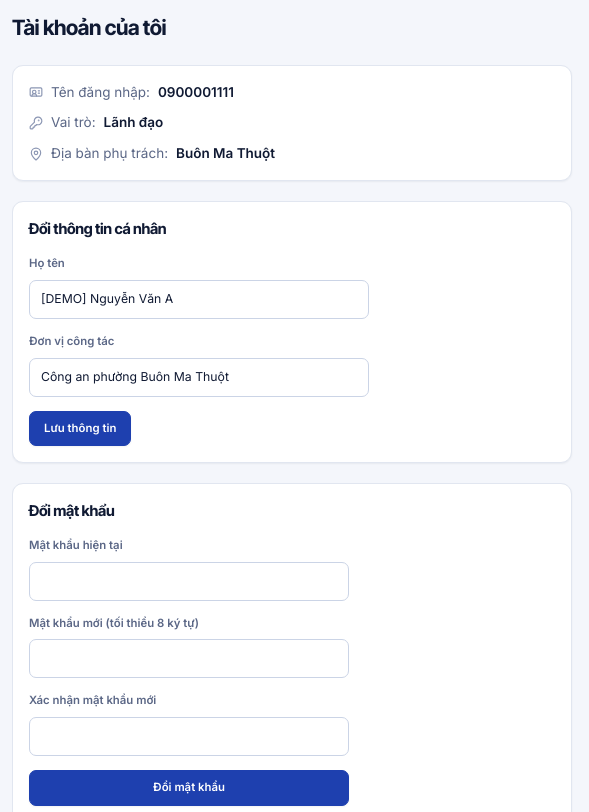
Test: AccountPage › allows a voluntary password change
The width and height of the screenshot is (589, 812).
Expected: the text "0900001111" is shown, [158, 82, 234, 102]
Type "Old-Password-1" into the password field labelled "Mật khẩu hiện tại" at (189,581), box [29, 562, 349, 601]
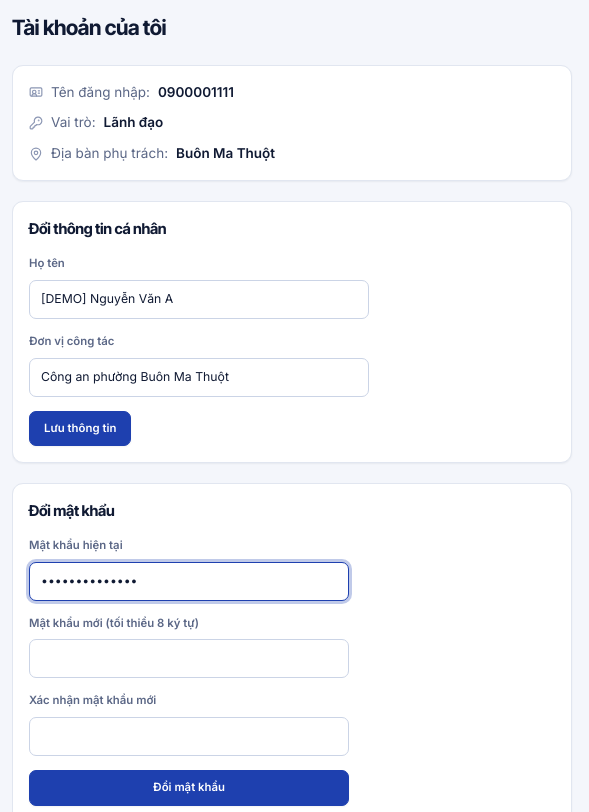
Type "New-Password-1" into the password field labelled "Mật khẩu mới (tối thiểu 8 ký tự)" at (189,659), box [29, 640, 349, 678]
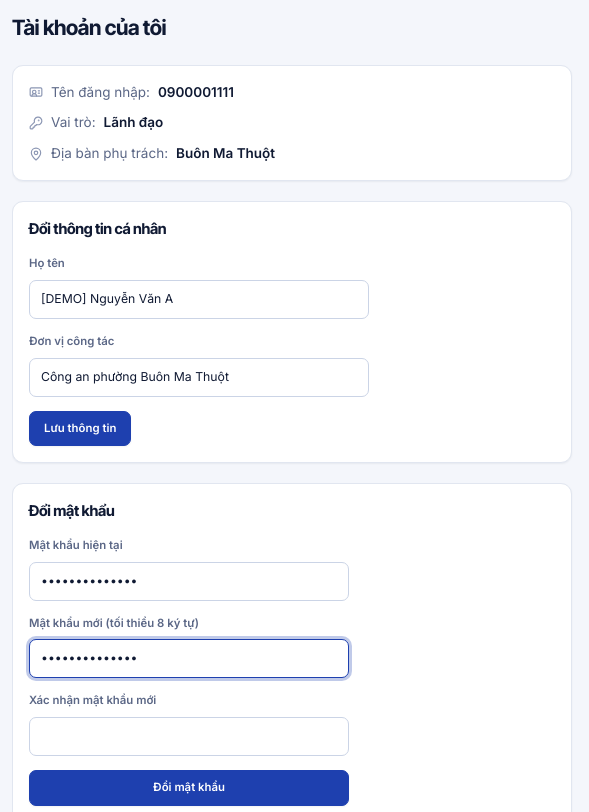
Type "New-Password-1" into the password field labelled "Xác nhận mật khẩu mới" at (189,737), box [29, 717, 349, 756]
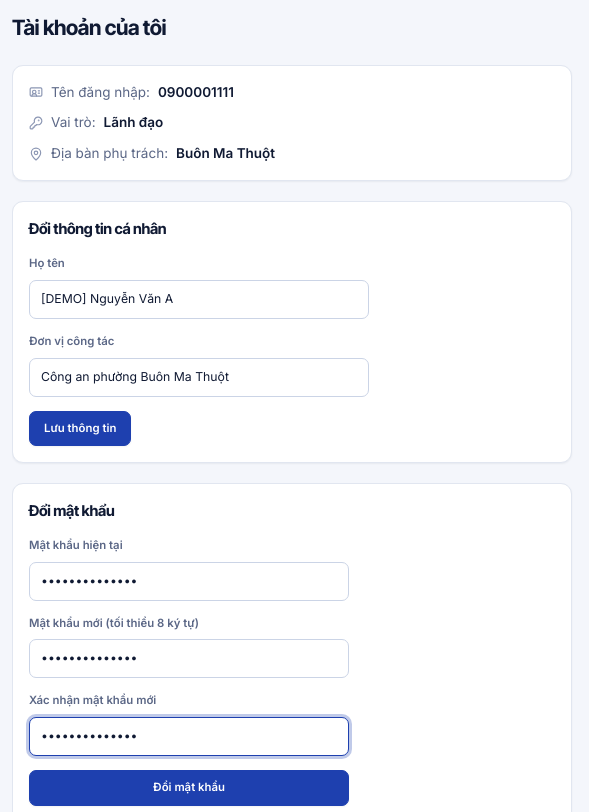
Click the button "Đổi mật khẩu" at (189,788), box [29, 770, 349, 806]
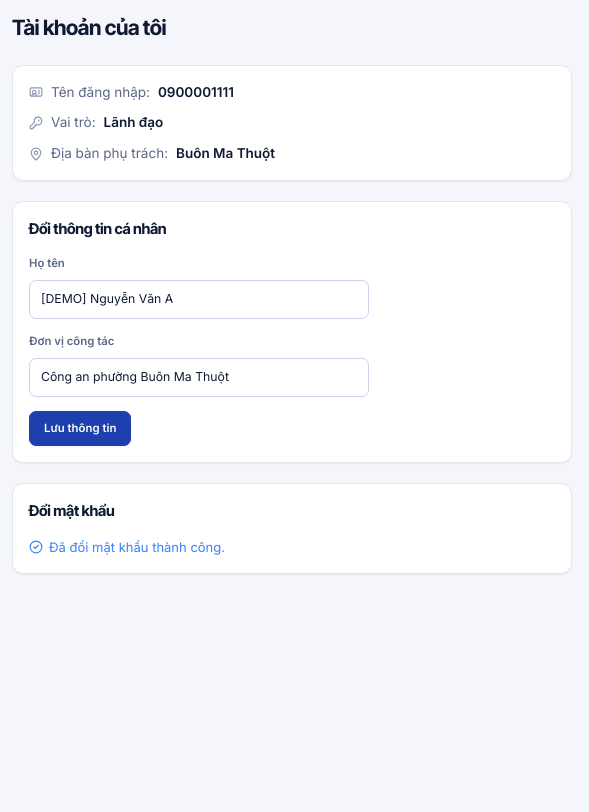
Now the text "Đã đổi mật khẩu thành công." is shown, box [29, 539, 225, 555]
